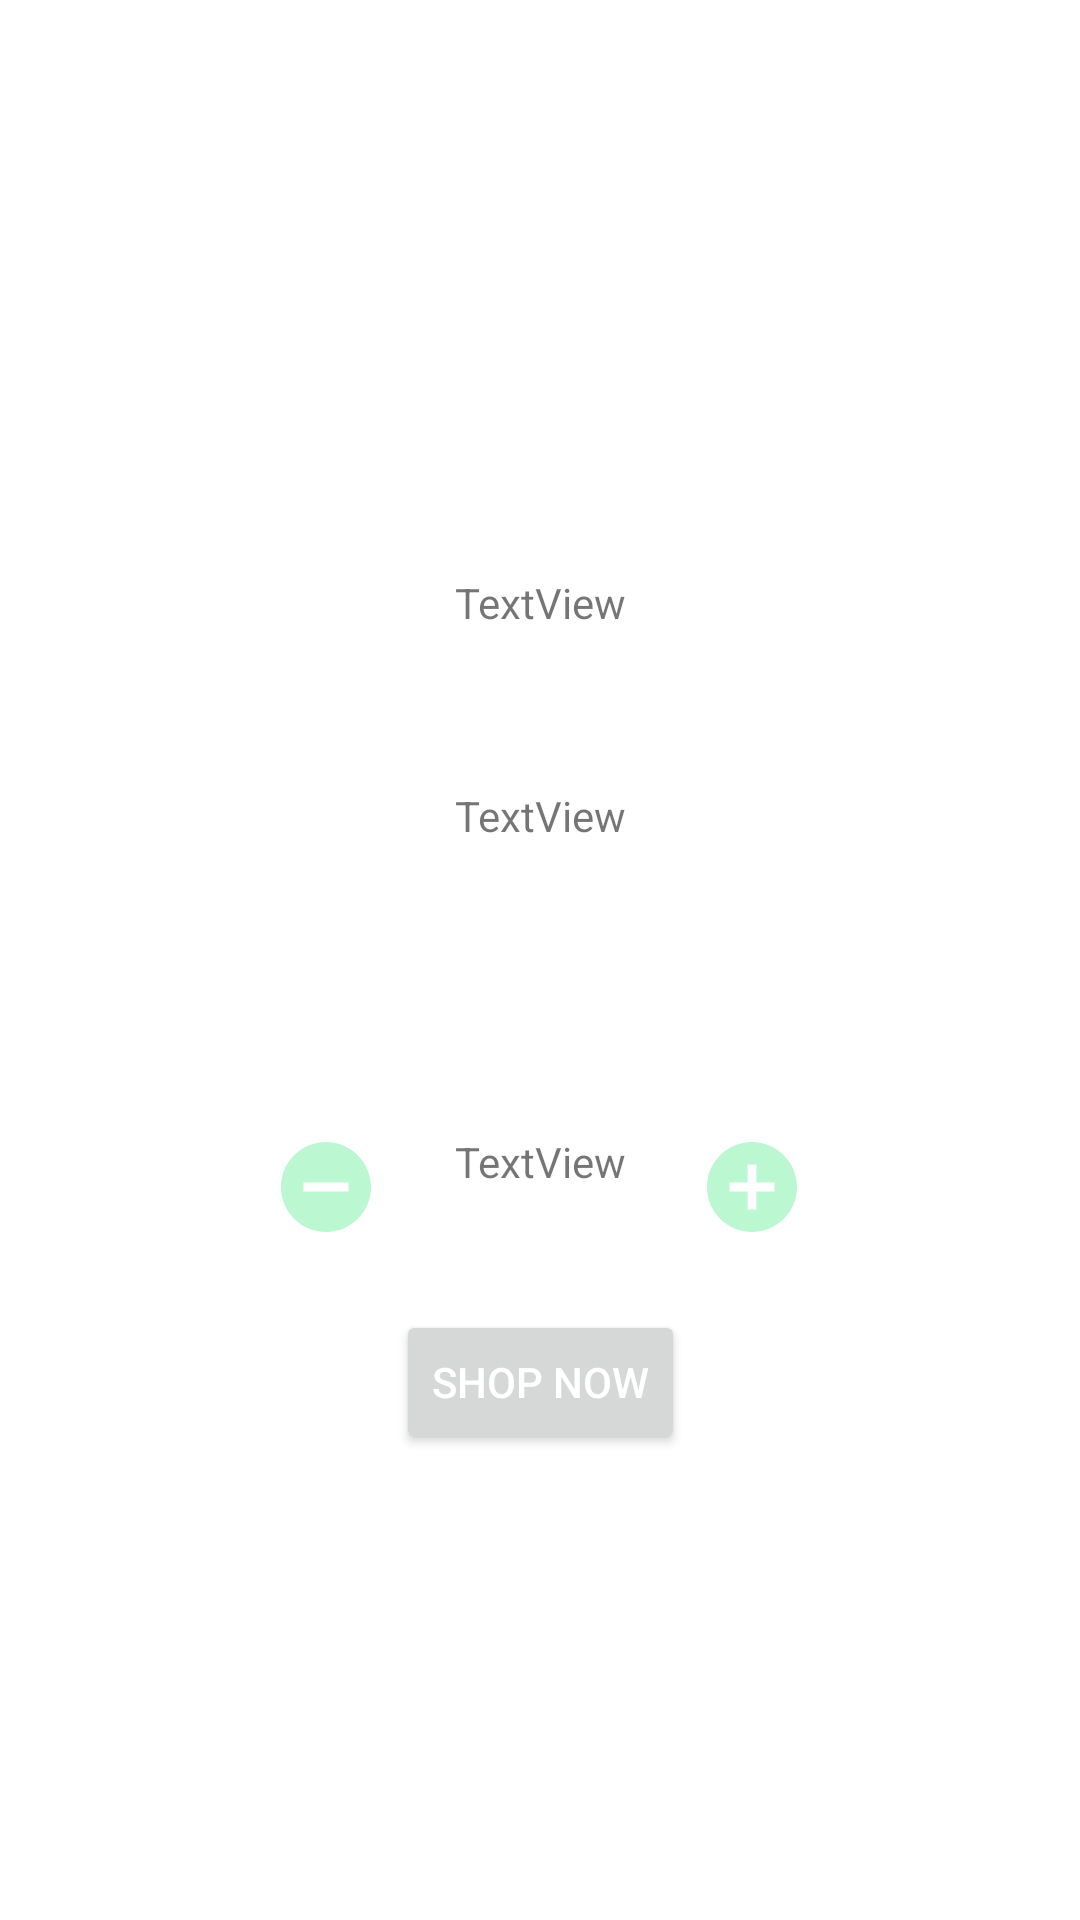

Icon click points for this 1080w x 1920h phone screenshot, format point (x, y):
less: point (326, 1187)
more: point (752, 1187)
